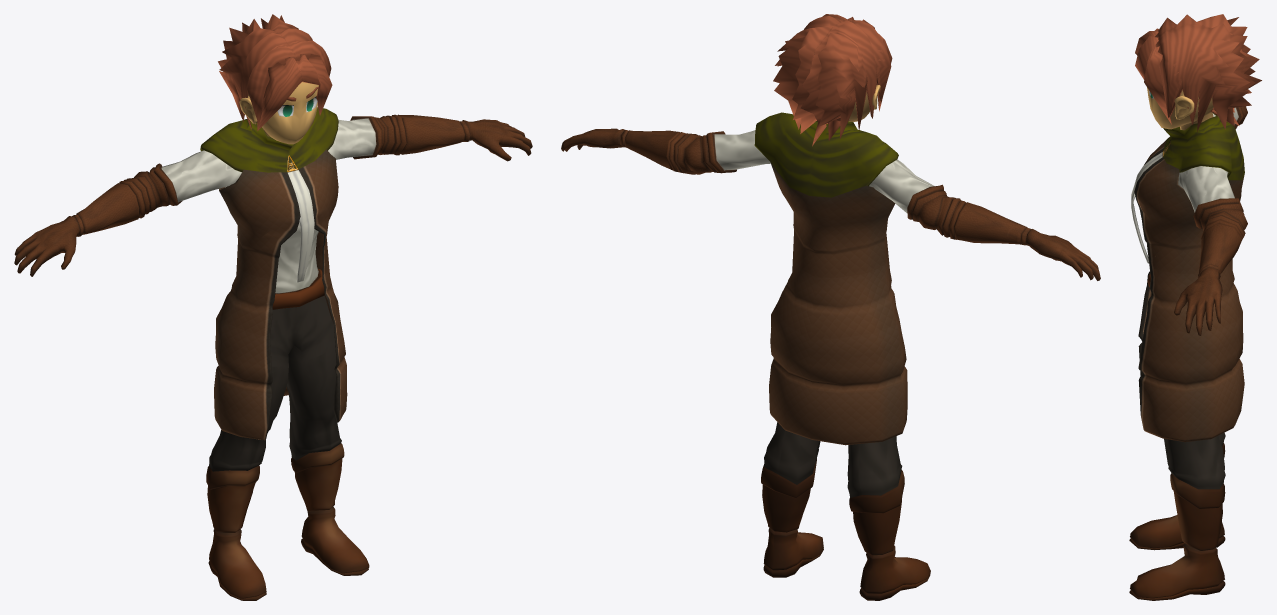
Rendered from earth.fbx.
The picture shows the model from 3 angles, left to right: view 1: azimuth 30°, elevation 25°; view 2: azimuth 150°, elevation 25°; view 3: azimuth 270°, elevation 25°; orthographic projection. The views are drawn at different scales.
Visible parts, largest first — view 1: Roggue_Body_mesh, Coat_mesh, Hair_Mesh; view 2: Coat_mesh, Roggue_Body_mesh, Hair_Mesh; view 3: Coat_mesh, Roggue_Body_mesh, Hair_Mesh.
Boxes of the visible parts, x1=… form: Roggue_Body_mesh: x1=14, y1=82, x2=532, y2=600; Coat_mesh: x1=200, y1=107, x2=347, y2=440; Hair_Mesh: x1=218, y1=14, x2=332, y2=130; Coat_mesh: x1=754, y1=112, x2=907, y2=445; Roggue_Body_mesh: x1=561, y1=85, x2=1100, y2=600; Hair_Mesh: x1=773, y1=14, x2=892, y2=146; Coat_mesh: x1=1131, y1=113, x2=1244, y2=442; Roggue_Body_mesh: x1=1129, y1=87, x2=1247, y2=600; Hair_Mesh: x1=1135, y1=14, x2=1261, y2=131.
Bounding box in the file's own units: 473 × 473 × 104.
Materials: 2 (2 with a texture image).
